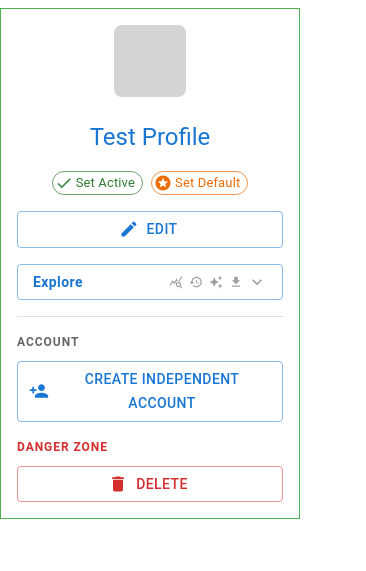
ProfileCard › Download My Data › shows an error alert when the export fails
Step 1. Click the button "Explore" → x=58, y=282, box x1=17 y1=264 x2=283 y2=300
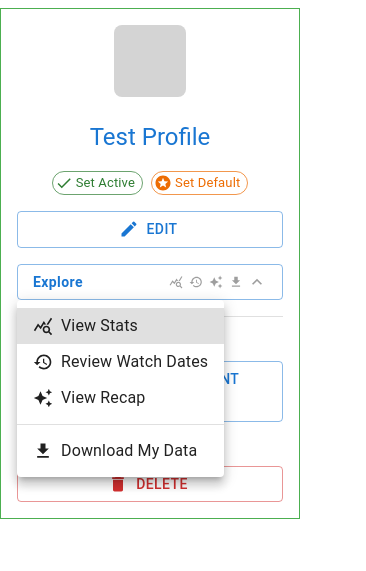
Step 2. Click the menu item "Download My Data" → x=115, y=451, box x1=33 y1=441 x2=197 y2=461
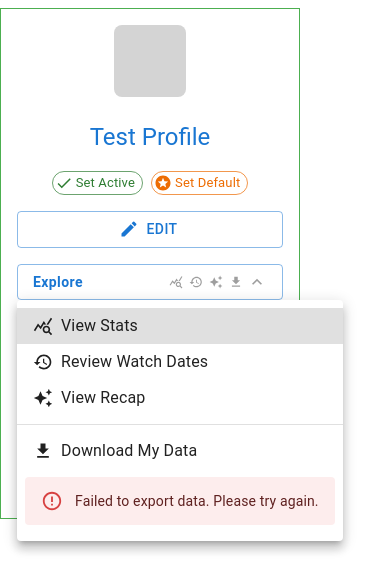
Expected: the text "Failed to export data. Please try again." is shown, x1=75 y1=493 x2=319 y2=509
